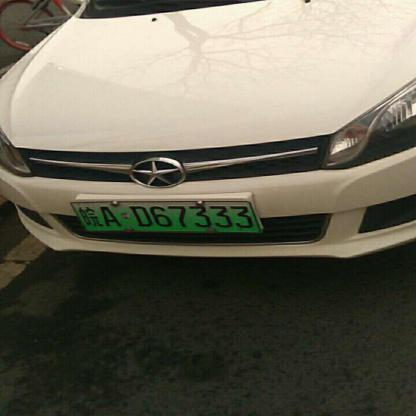lp: (71, 202, 260, 230)
